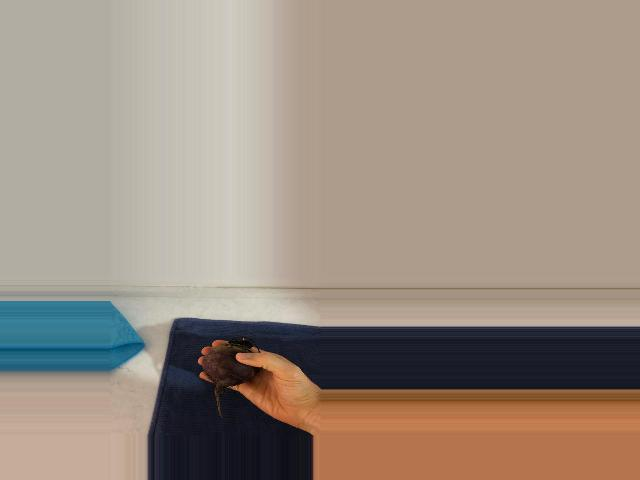beet: (202, 337, 260, 419)
